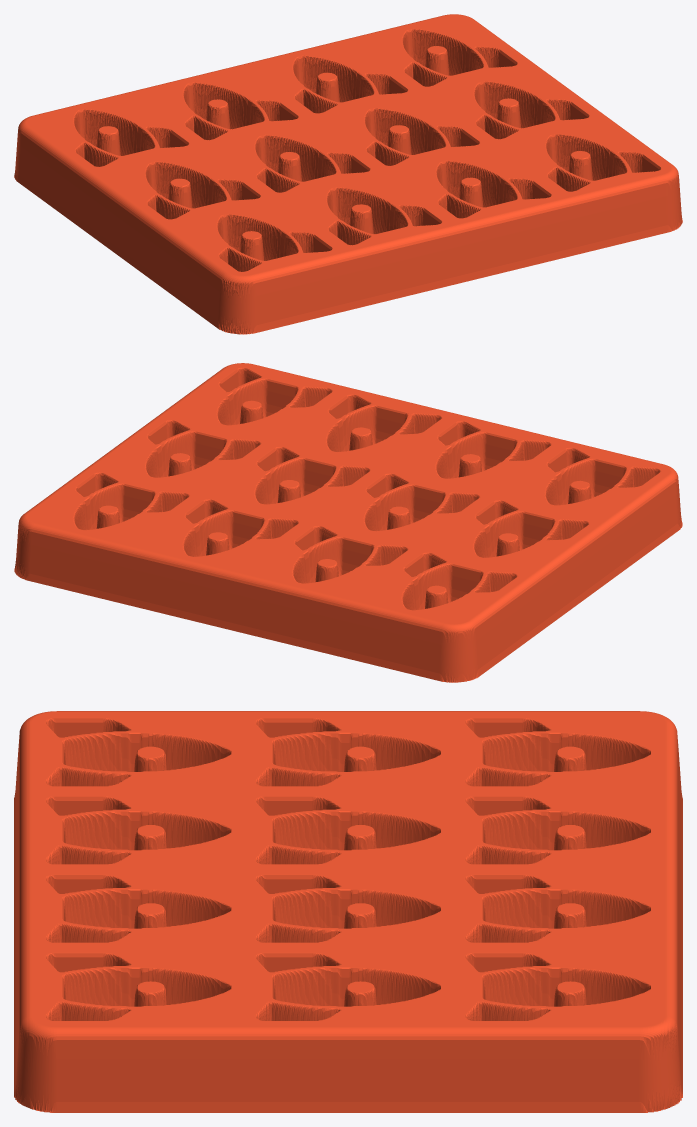
The model's file is mold.glb.
The picture shows the model from 3 angles, top to bottom: view 1: azimuth 30°, elevation 25°; view 2: azimuth 150°, elevation 25°; view 3: azimuth 270°, elevation 25°; orthographic projection. The views are drawn at different scales.
Visible parts, largest first — view 1: geometry_0; view 2: geometry_0; view 3: geometry_0.
Part boxes in pixels (<box>): geometry_0: <box>14,14,682,334</box>; geometry_0: <box>14,363,682,682</box>; geometry_0: <box>14,711,682,1112</box>.
Size of the model in its own units: 0.1643 by 0.0182 by 0.141.
